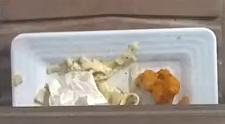pasta: (46, 44, 138, 106)
yams: (137, 68, 178, 104)
